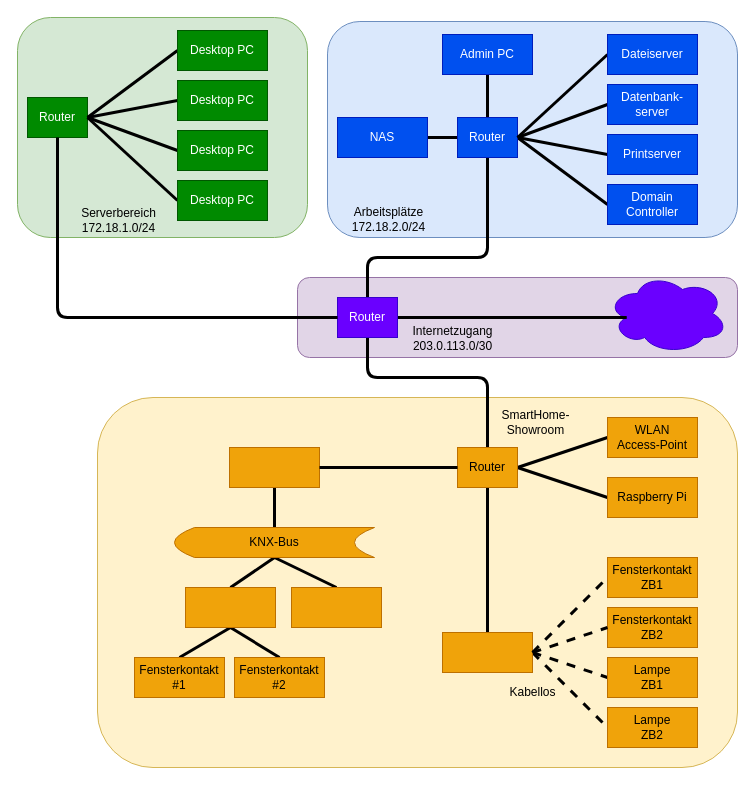
Some shapes in this 755 by 785 pixel diagram are drawn without their labels. Here are the shapes that lost their labels. From the top down, the centre of each, then its label:
At [667,313]: "Internet".
At [274,467]: "KNX IP-Interface".
At [230,607]: "KNX-Binäreingänge".
At [336,607]: "KNX-Netzteil".
At [487,652]: "ZigBee IP-Bridge".
